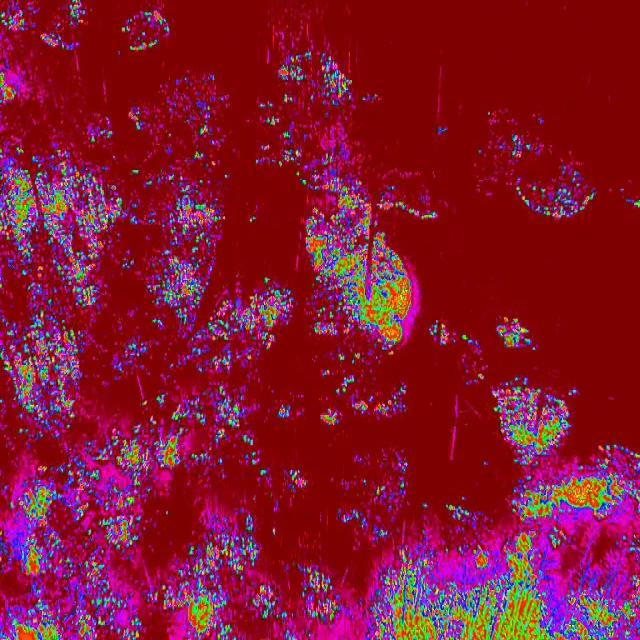fire: (0, 67, 227, 640), (493, 452, 640, 640), (227, 266, 300, 640), (304, 190, 418, 344), (262, 43, 374, 188), (368, 544, 492, 640), (504, 125, 596, 221), (335, 452, 415, 544), (492, 371, 578, 451), (319, 366, 411, 425), (423, 318, 489, 386), (0, 0, 86, 52), (301, 564, 337, 640), (496, 310, 538, 354), (124, 10, 170, 49), (440, 501, 486, 533)
